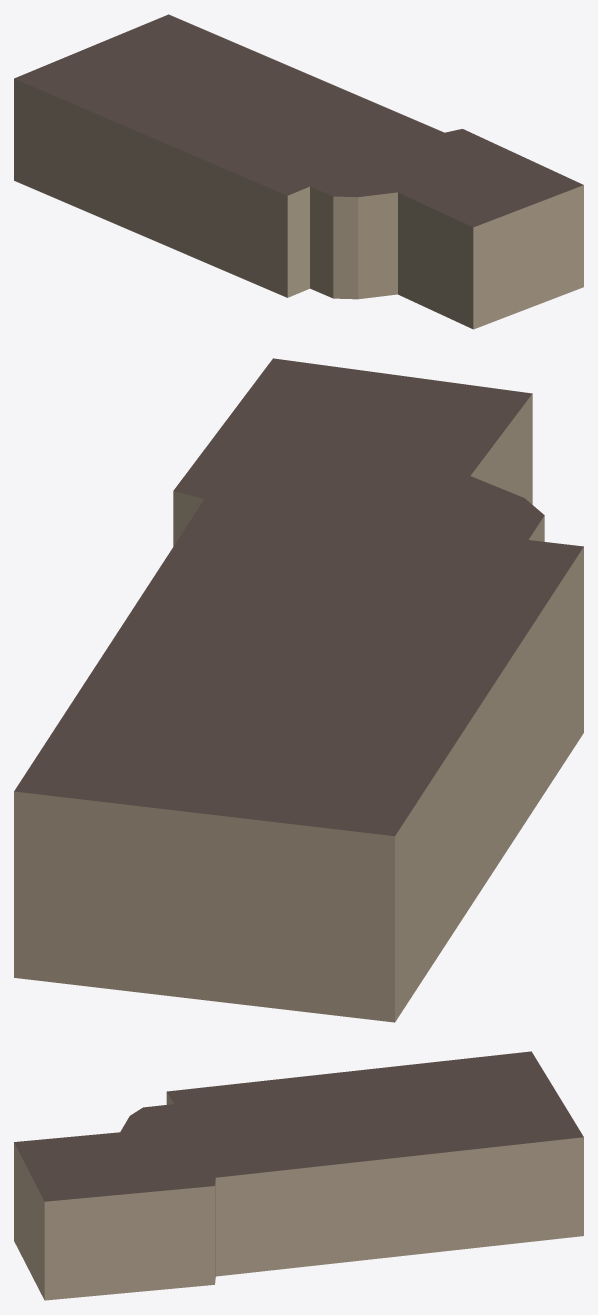
3 renders of one model, top to bottom at view 1: azimuth 30°, elevation 25°; view 2: azimuth 150°, elevation 25°; view 3: azimuth 270°, elevation 25°, orthographic. The views are drawn at different scales.
Visible parts, largest first — view 1: HP-w572270466; view 2: HP-w572270466; view 3: HP-w572270466.
Boxes of the visible parts, bbox=[...] form: HP-w572270466: bbox=[14, 14, 583, 329]; HP-w572270466: bbox=[14, 358, 583, 1022]; HP-w572270466: bbox=[14, 1051, 583, 1300].
Size of the model in its own units: 29.37 by 9 by 47.04.
